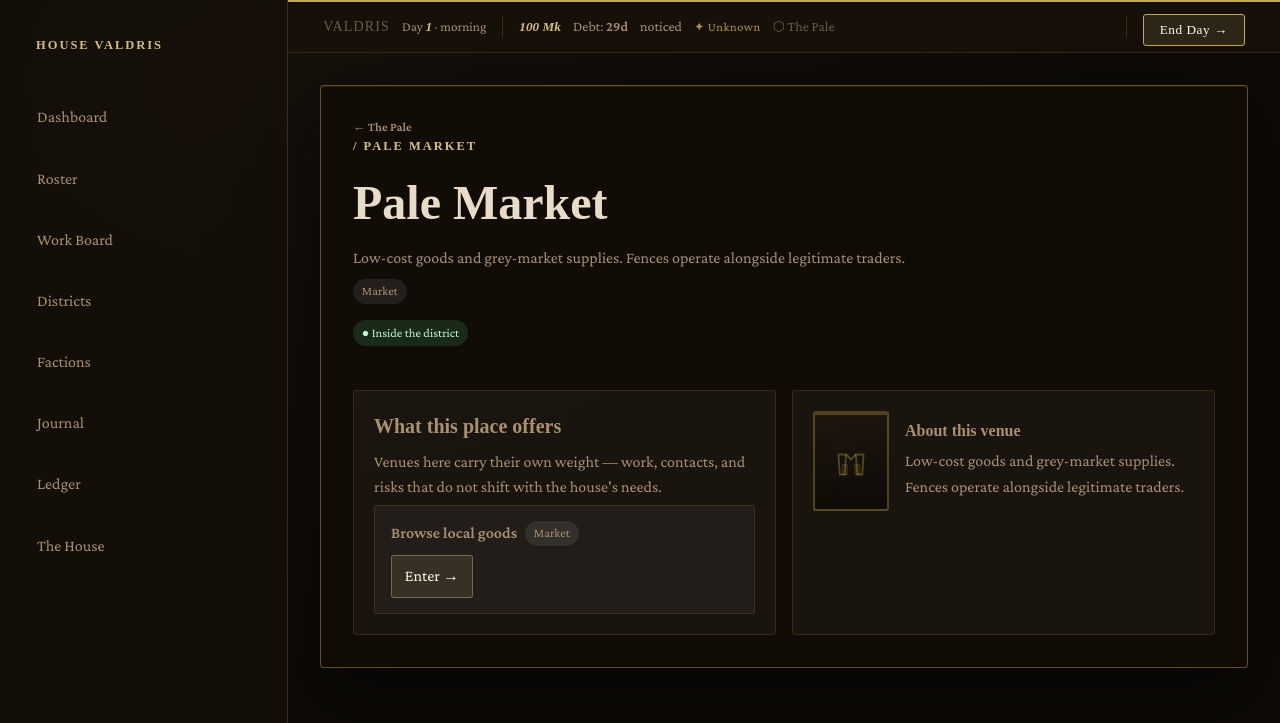
Scenario: App › preserves venue context when entering a local feature from a district poi
Expected: the heading "Pale Market" is shown, [353,176,608,229]
Click the button "Enter →". click: click(432, 576)
box: [391,555,473,598]
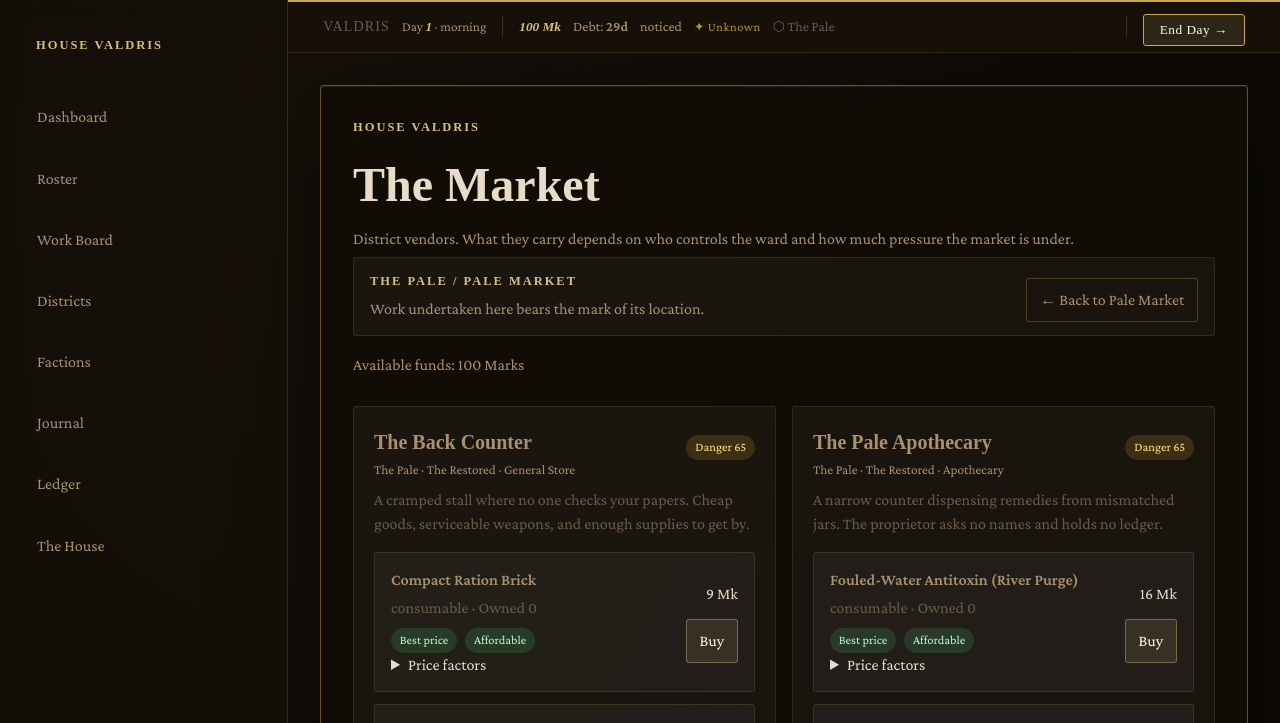
Expected: the text "The Pale / Pale Market" is shown, [370,274,577,288]
Result: the heading "The Market" is shown at [353,158,600,211]
Result: the button "← Back to Pale Market" is shown at [1026,278,1198,322]
